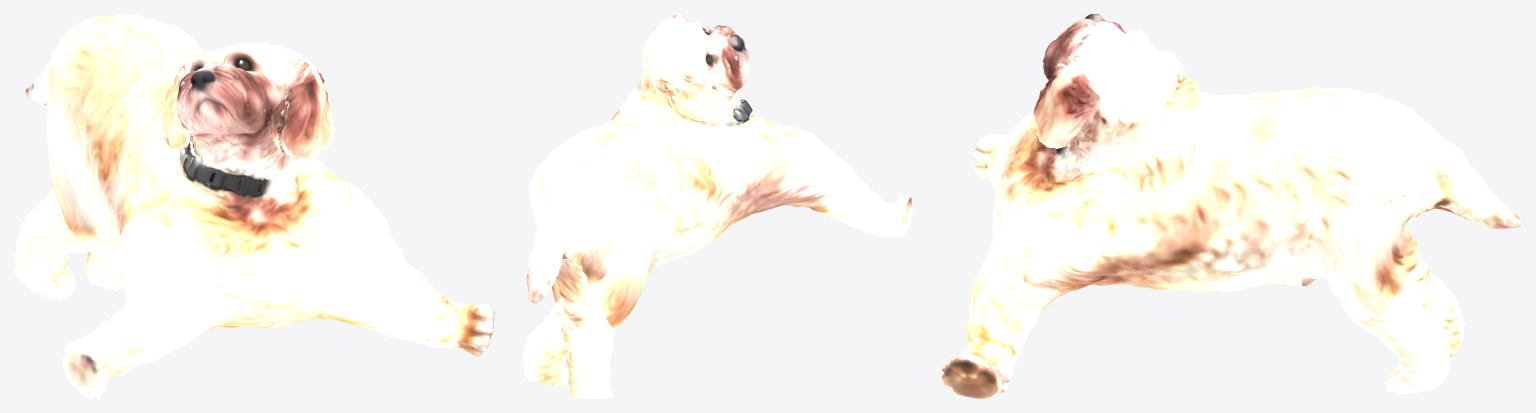
Rendered from sleep_pose_v6.glb.
3 views of the same model, side by side, from view 1: azimuth 30°, elevation 25°; view 2: azimuth 150°, elevation 25°; view 3: azimuth 270°, elevation 25° (orthographic). The views are drawn at different scales.
Parts seen in each view (by area): view 1: char1; view 2: char1; view 3: char1.
Part boxes in pixels (x1=…): char1: x1=14, y1=14, x2=494, y2=398; char1: x1=523, y1=14, x2=912, y2=398; char1: x1=941, y1=14, x2=1521, y2=398.
Bounding box in the file's own units: 0.00382 × 0.00329 × 0.00489.
1 material, 1 textured.
